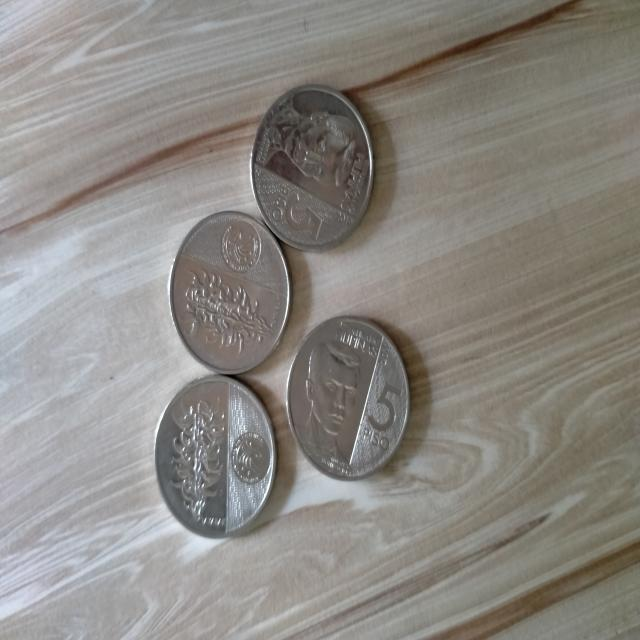5_New_Back: (161, 386, 226, 530), (175, 264, 278, 354)
5_New_Front: (353, 364, 412, 466), (258, 178, 329, 249)
